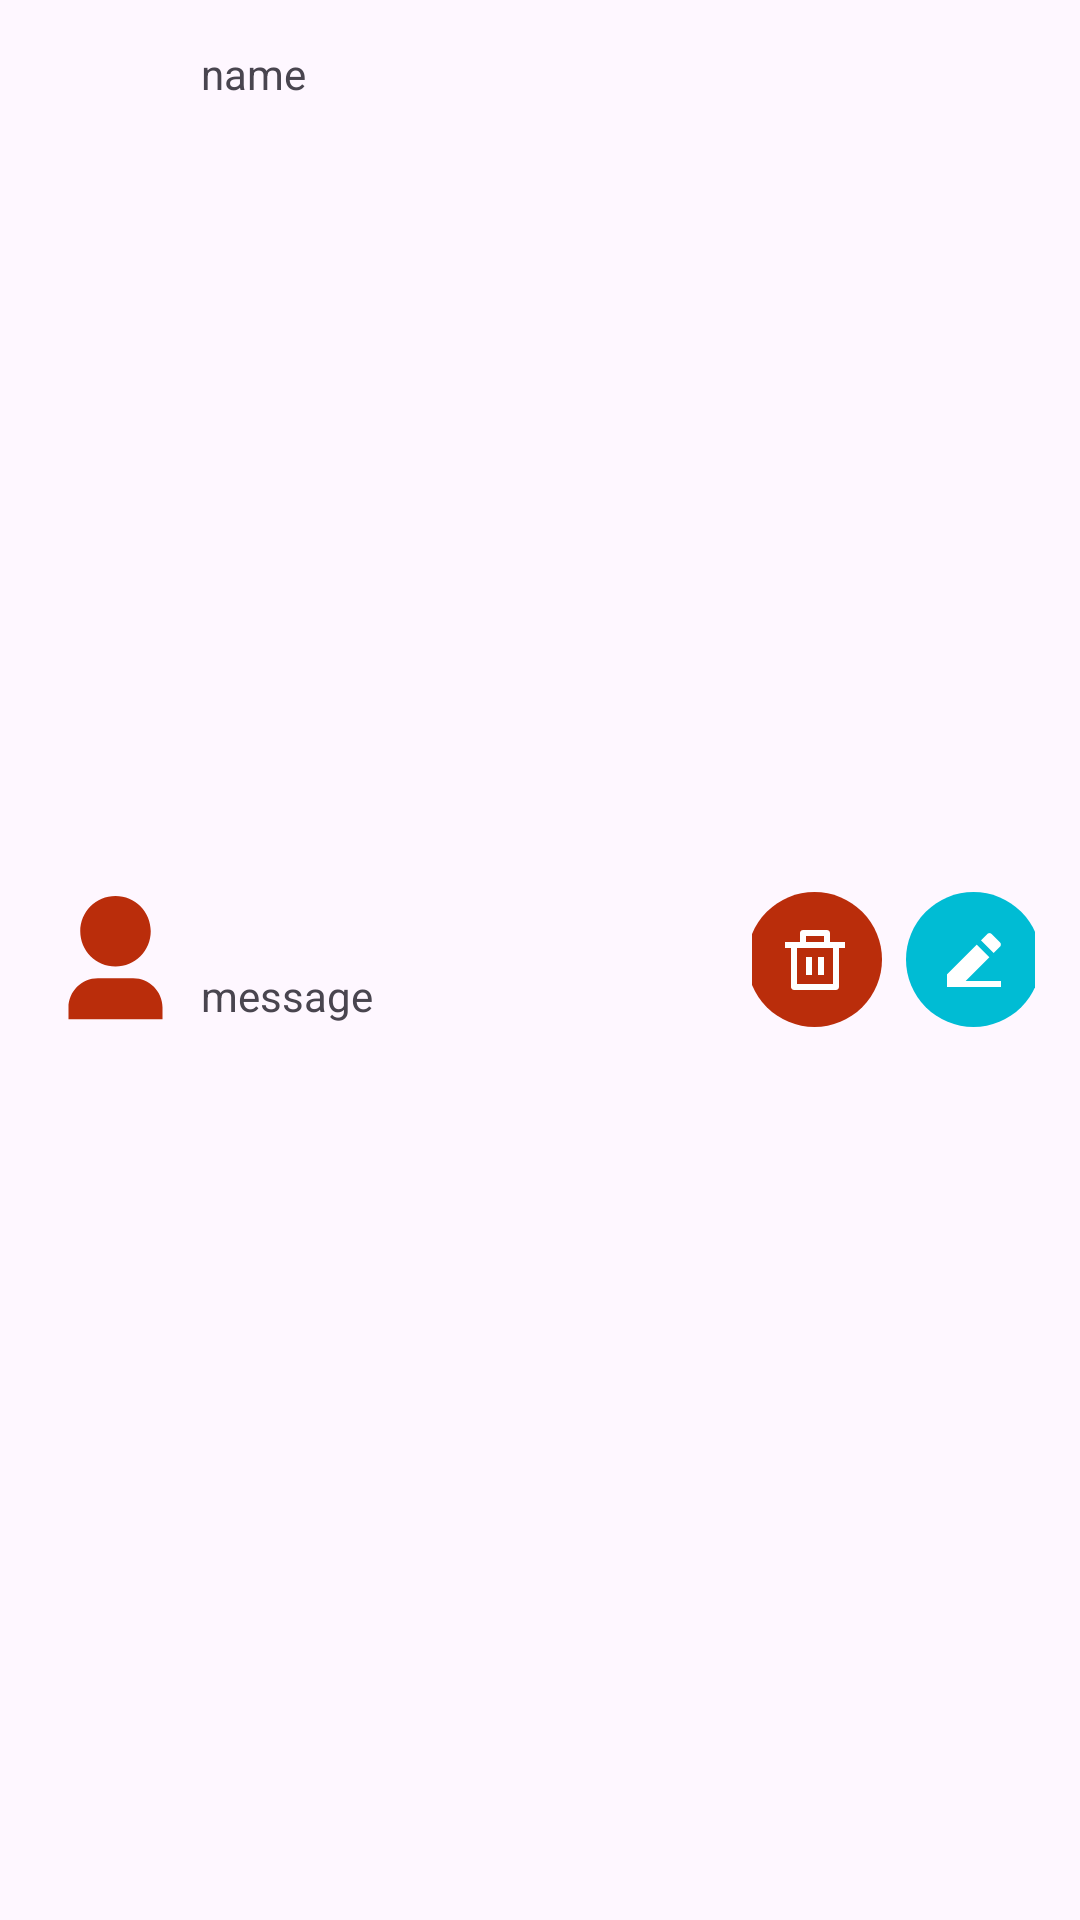

Screen size 1080 x 1920. Icon name, then its box in pixels as Rect(x1, y1, x2, y2):
delete bin line: Rect(752, 892, 882, 1027)
edit: Rect(906, 892, 1035, 1027)
user: Rect(68, 896, 163, 1020)
